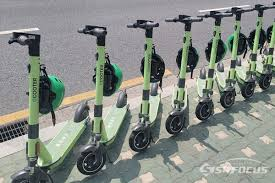kick_board: (9, 33, 89, 183), (77, 25, 131, 173), (123, 20, 166, 151), (165, 15, 202, 135)
kick_handler: (9, 32, 40, 56), (77, 25, 107, 45), (126, 20, 159, 36), (165, 15, 202, 29), (198, 11, 232, 23), (246, 4, 275, 15)
kick_neck: (26, 59, 43, 154), (141, 41, 153, 114), (93, 47, 103, 132), (177, 34, 188, 101), (207, 28, 219, 87), (251, 20, 261, 69), (230, 26, 239, 80)
kick_wheel: (77, 147, 105, 174), (129, 125, 151, 151), (166, 114, 184, 135), (196, 101, 213, 121), (221, 92, 236, 107), (241, 82, 254, 98), (259, 73, 271, 89)
